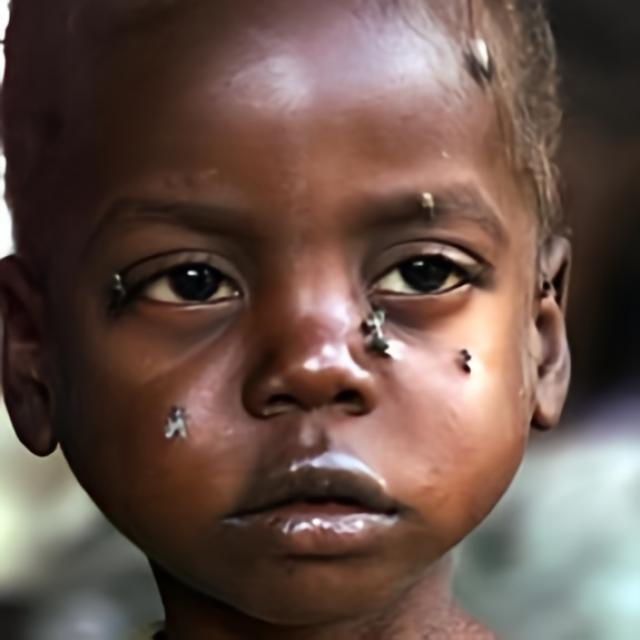sad: (50, 0, 534, 622)
